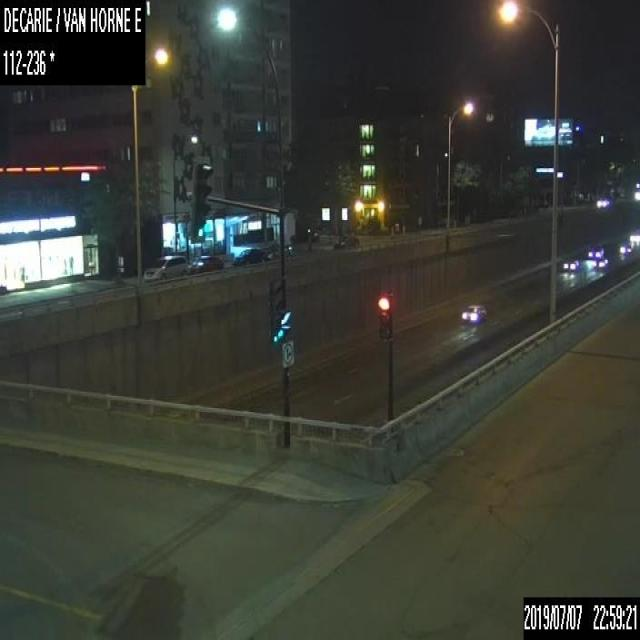vehicle: (142, 252, 188, 277), (187, 256, 223, 272), (284, 233, 312, 252), (234, 248, 265, 264), (460, 303, 487, 321), (288, 227, 318, 243), (334, 234, 358, 247), (586, 243, 604, 259), (561, 256, 579, 272), (595, 196, 611, 208), (617, 242, 631, 255), (593, 257, 607, 268)
